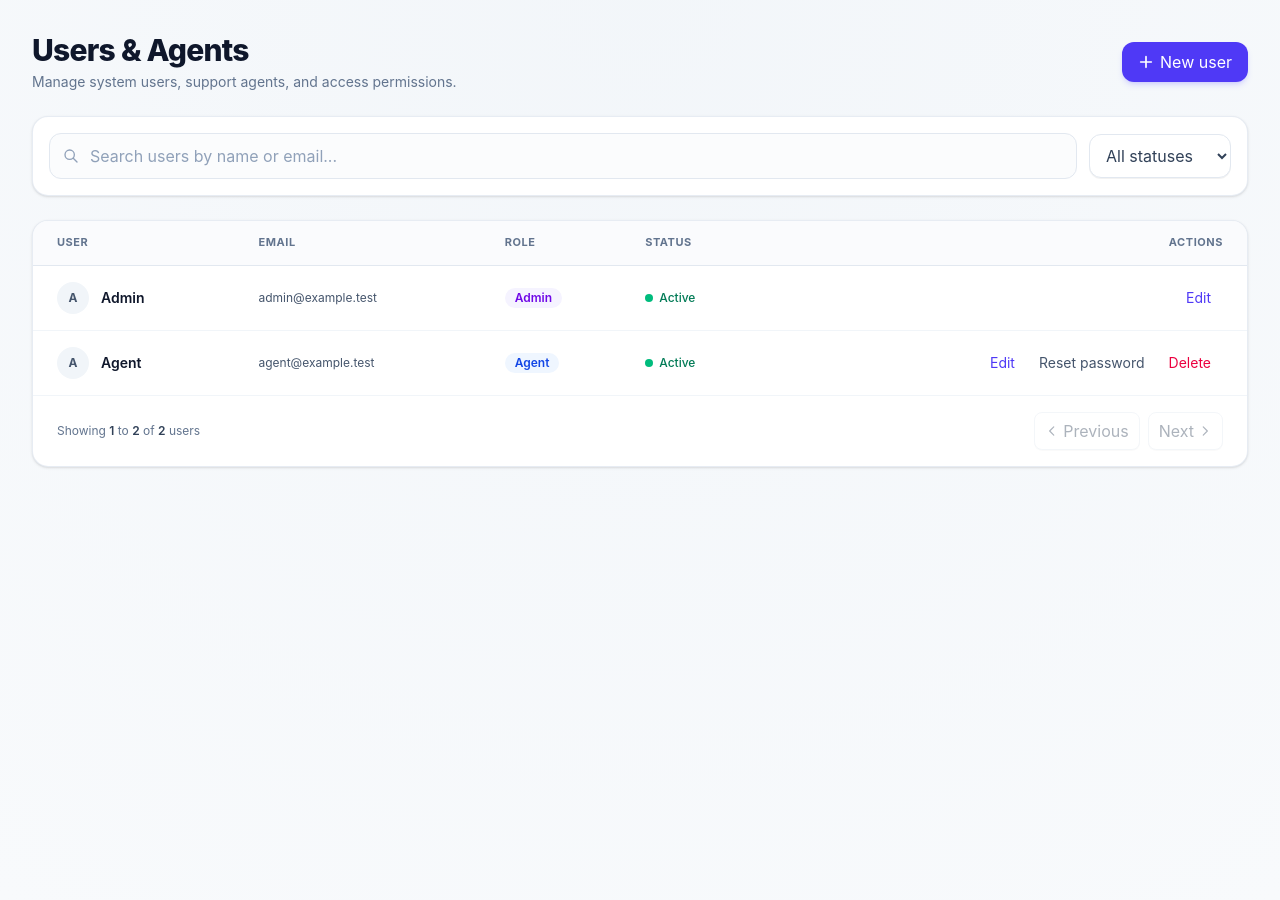
Test: AdminUsersView — row actions › opens the reassignment dialog when the delete is blocked
Click the button with test id "users-delete": (1190, 363) [1157, 349, 1223, 377]
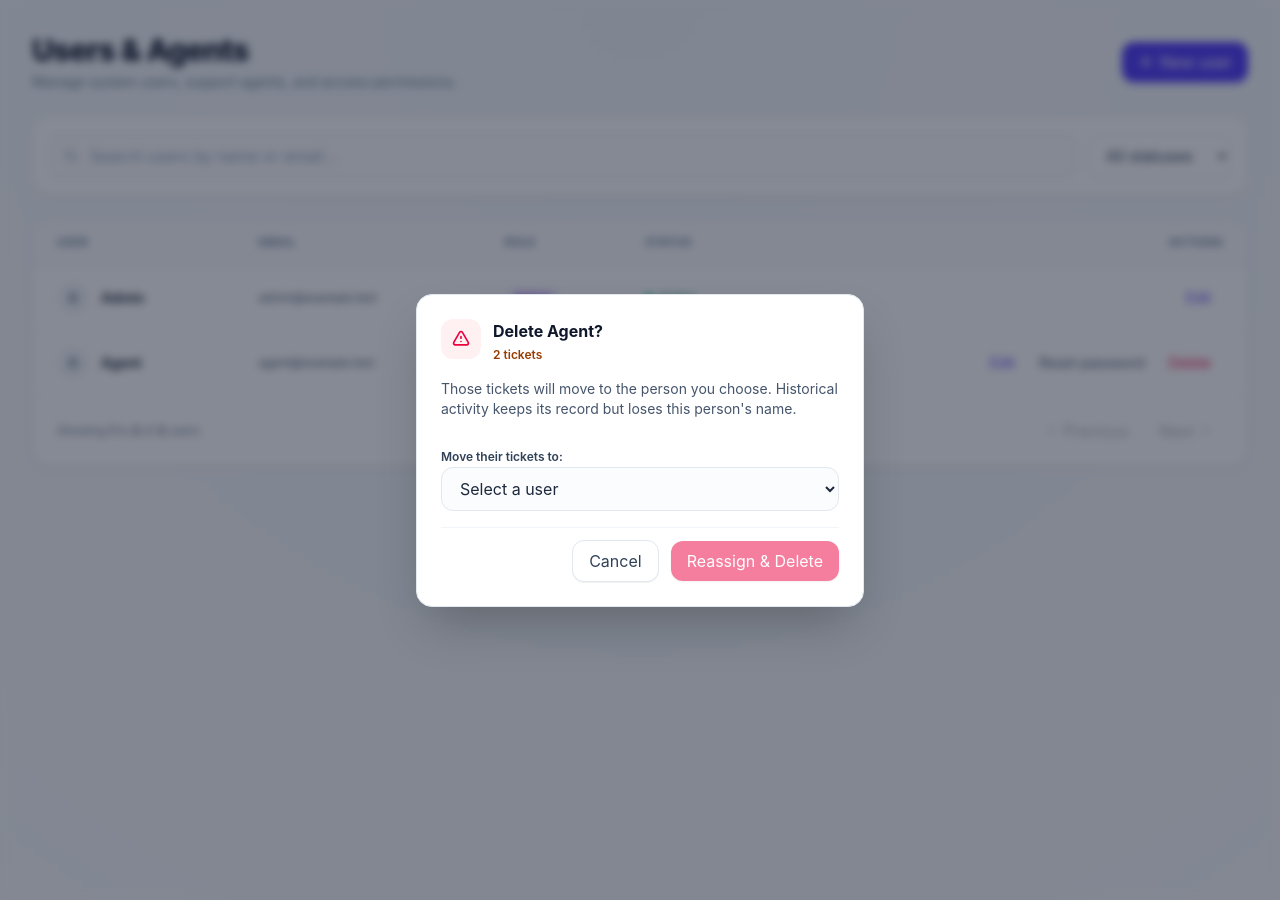
Now the text with test id "user-delete-count" shows "2", box [493, 346, 542, 362]
